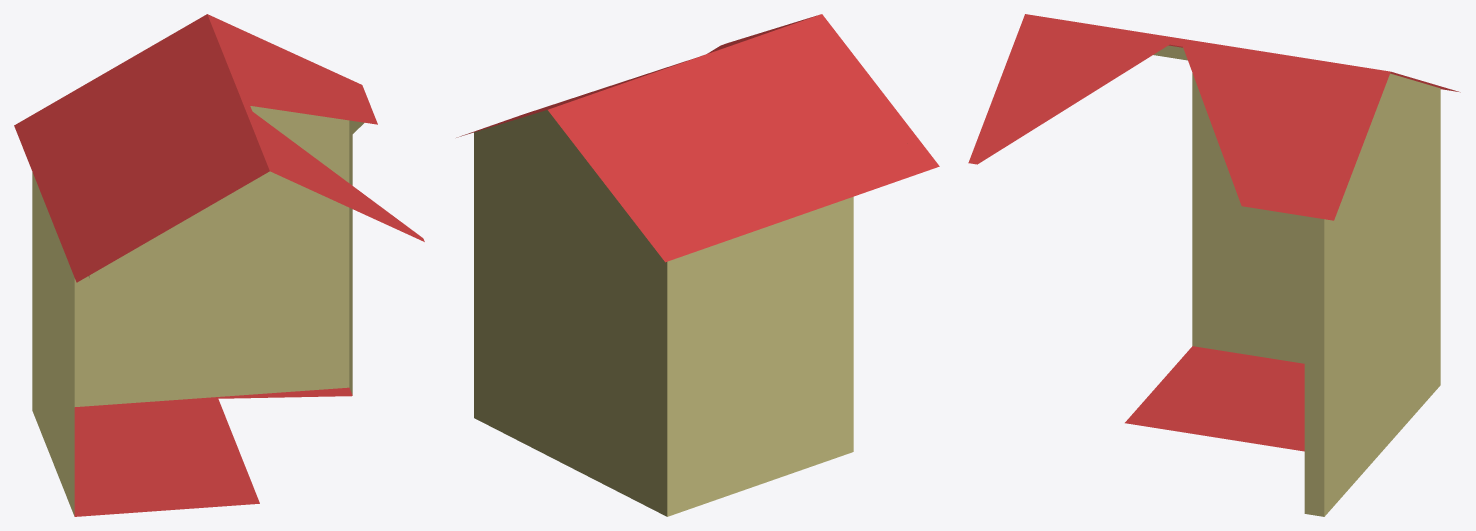
The picture shows the model from 3 angles, left to right: view 1: azimuth 30°, elevation 25°; view 2: azimuth 150°, elevation 25°; view 3: azimuth 270°, elevation 25°; orthographic projection. The views are drawn at different scales.
Bounding box in the file's own units: 14.71 × 15.16 × 13.22.
